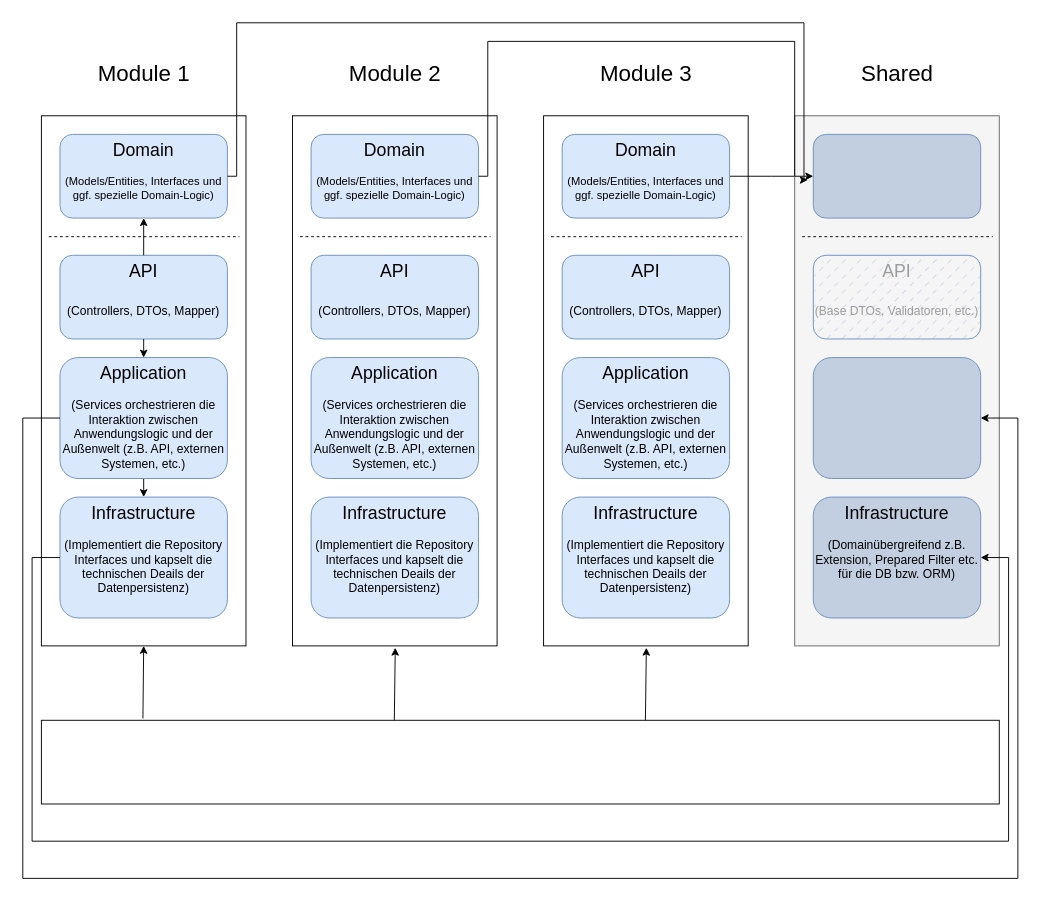
This 1042x902 diagram has some shape labels left out. Here are the shapes that lost their labels. From the top down, the centre of each, then its label:
At (x=896, y=175): "Domain (Base Models/Entities)".
At (x=896, y=417): "Application (Domainübergreifende Services, z.B. Logger, MailSend.)".
At (x=519, y=761): "API".
